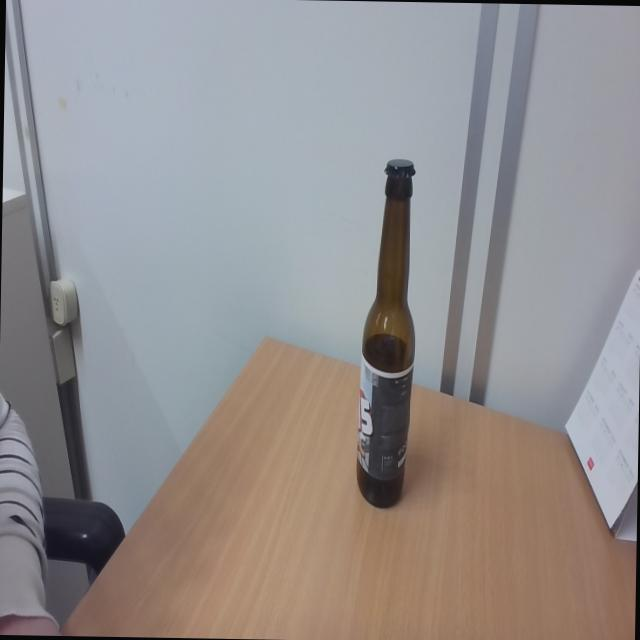Bottle: (355, 157, 419, 509)
Cap: (382, 156, 416, 182)
Label: (358, 358, 412, 478)
